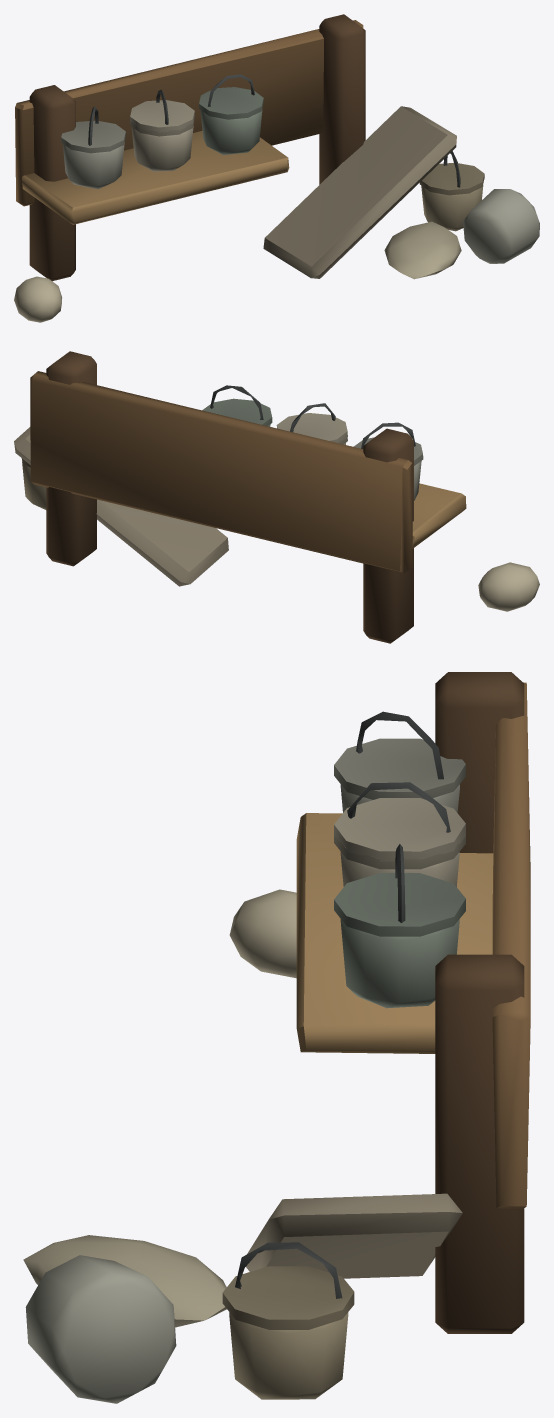
Rendered from lunch_shelf_b_lod1.glb.
3 views of the same model, one above another, from view 1: azimuth 30°, elevation 25°; view 2: azimuth 150°, elevation 25°; view 3: azimuth 270°, elevation 25° (orthographic). The views are drawn at different scales.
Parts seen in each view (by area): view 1: Surface.001; view 2: Surface.001; view 3: Surface.001.
Boxes of the visible parts, x1,y1,x2,y2 form: Surface.001: [14, 14, 539, 322]; Surface.001: [14, 351, 539, 643]; Surface.001: [23, 672, 530, 1403].
Size of the model in its own units: 3.39 by 1.36 by 1.59.
